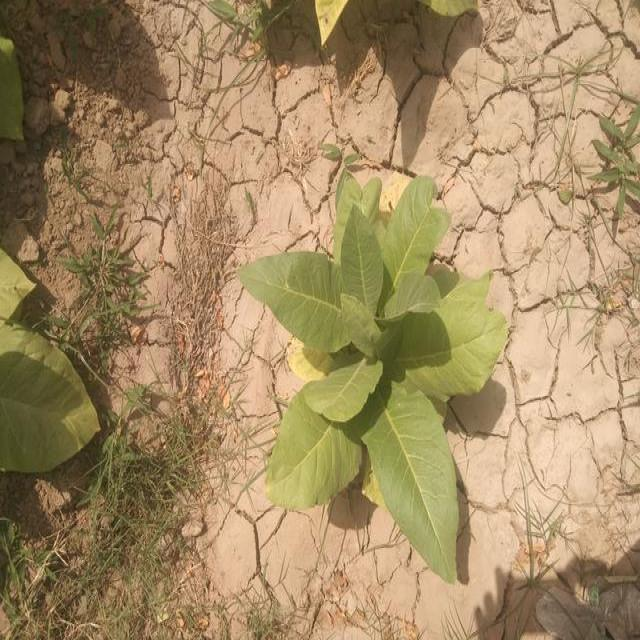crop: (247, 176, 512, 583), (0, 263, 95, 485), (0, 32, 33, 146), (300, 0, 360, 40), (425, 0, 479, 13)
